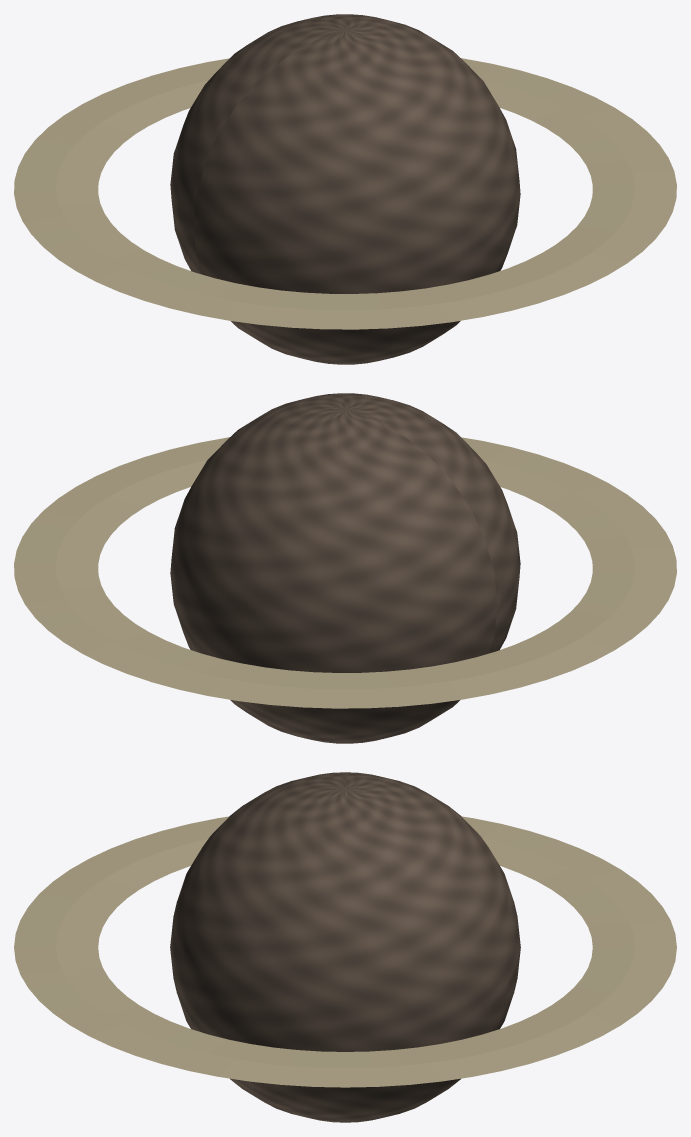
File: mundos.glb
3 renders of one model, top to bottom at view 1: azimuth 30°, elevation 25°; view 2: azimuth 150°, elevation 25°; view 3: azimuth 270°, elevation 25°, orthographic.
Parts seen in each view (by area): view 1: mercurio, saturno_aneis; view 2: mercurio, saturno_aneis; view 3: mercurio, saturno_aneis.
Part boxes in pixels (bbox=[...]): mercurio: bbox=[170, 14, 520, 364]; saturno_aneis: bbox=[14, 58, 676, 329]; mercurio: bbox=[170, 393, 520, 743]; saturno_aneis: bbox=[14, 437, 676, 708]; mercurio: bbox=[170, 772, 520, 1122]; saturno_aneis: bbox=[14, 816, 676, 1087].
Bounding box in the file's own units: 3.78 × 2 × 3.78.
10 materials, 9 textured.
